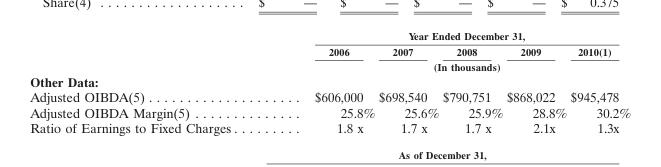table: (29, 29, 630, 135)
table column: (29, 29, 275, 135), (275, 29, 376, 135), (376, 29, 440, 135), (440, 29, 504, 135), (504, 29, 568, 135), (568, 29, 630, 135)
table column header: (29, 29, 630, 73)
table projected row header: (29, 73, 630, 88)
table row: (29, 88, 630, 104), (29, 119, 630, 135), (29, 43, 630, 58), (29, 58, 630, 73), (29, 73, 630, 88), (29, 104, 630, 119), (29, 29, 630, 43)
table spanning cell: (275, 58, 630, 73), (275, 29, 630, 43)
